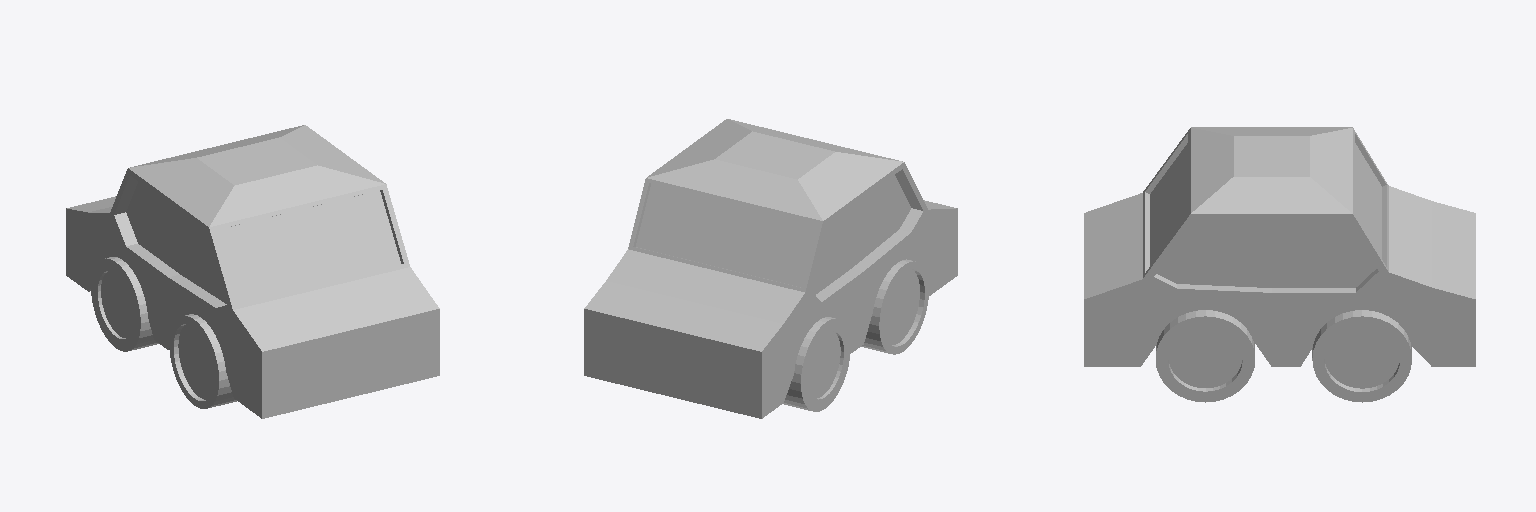
Rendered from car.obj.
3 views of the same model, side by side, from view 1: azimuth 30°, elevation 25°; view 2: azimuth 150°, elevation 25°; view 3: azimuth 270°, elevation 25° (orthographic).
Visible parts, largest first — view 1: Cube, wheels.002_Cylinder.003, wheels.003_Cylinder.004; view 2: Cube, wheels.003_Cylinder.004, wheels.002_Cylinder.003; view 3: Cube, wheels_Cylinder.001, wheels.001_Cylinder.002.
Boxes of the visible parts, <box> form: Cube: <box>66,125,439,418</box>; wheels.002_Cylinder.003: <box>169,314,236,408</box>; wheels.003_Cylinder.004: <box>91,257,158,351</box>; Cube: <box>584,119,957,418</box>; wheels.003_Cylinder.004: <box>783,317,850,411</box>; wheels.002_Cylinder.003: <box>861,259,928,354</box>; Cube: <box>1084,127,1475,366</box>; wheels_Cylinder.001: <box>1312,310,1411,402</box>; wheels.001_Cylinder.002: <box>1156,310,1254,402</box>.
Bounding box in the file's own units: 2.41 × 2.29 × 4.14.